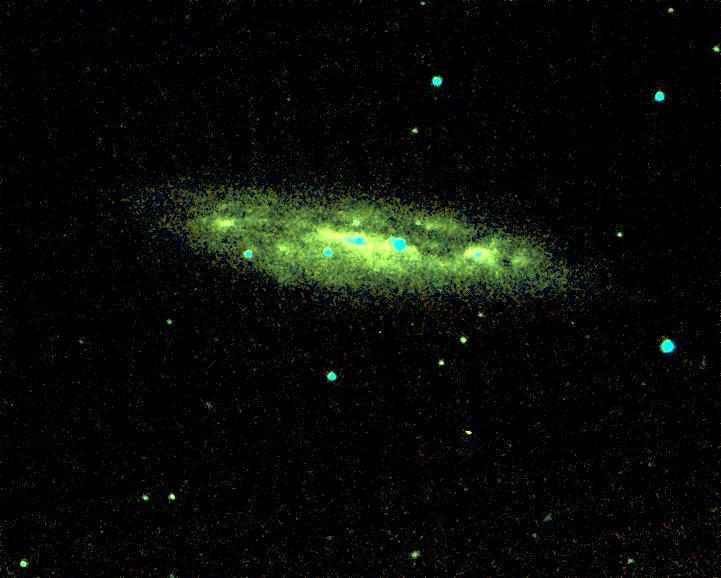star: (453, 417, 483, 447)
